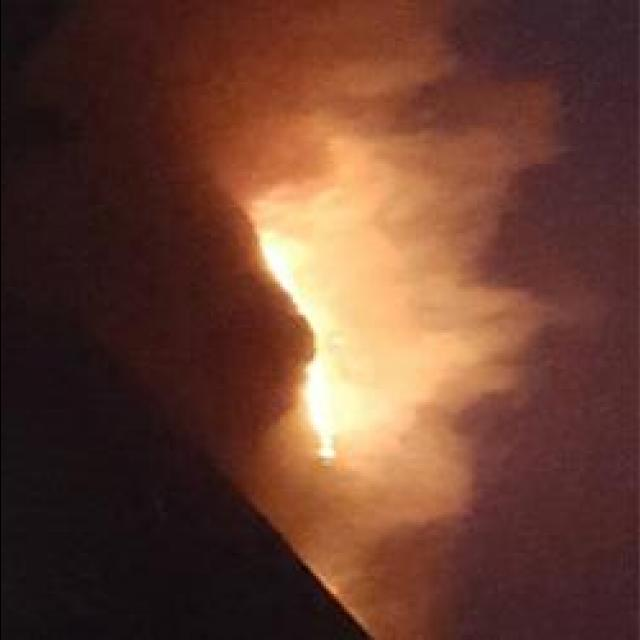fire: (255, 224, 309, 286), (304, 373, 324, 415)
smoke: (328, 233, 556, 442), (251, 110, 551, 224), (266, 453, 474, 581), (276, 0, 456, 92)
